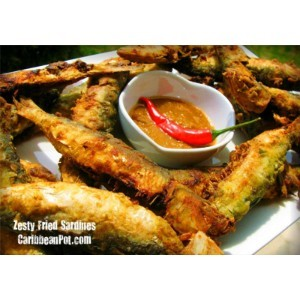sardine_brain food: (16, 56, 292, 242)
